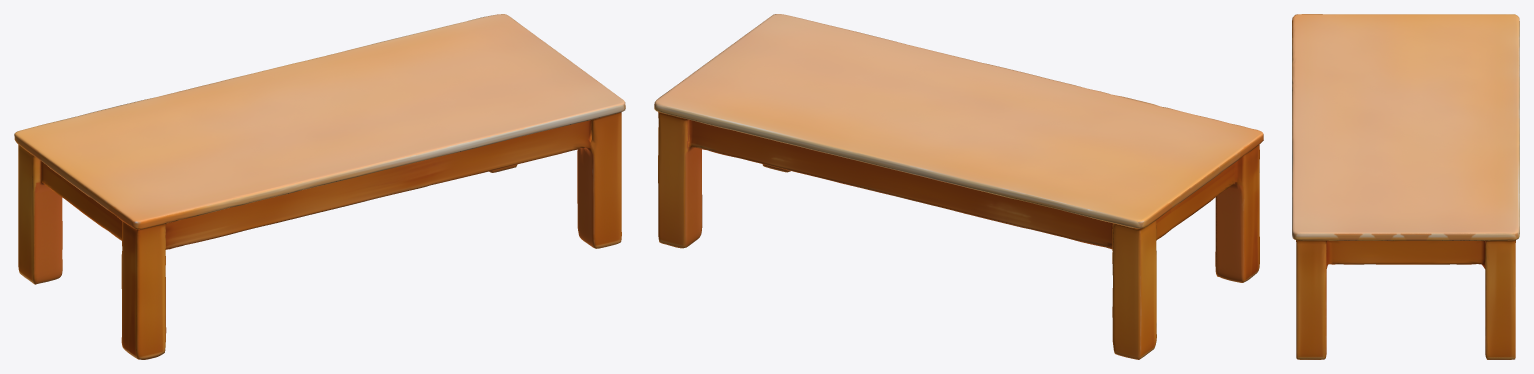
Rendered from 019dac62-fe38-7efe-9d72-35cc1d251368.glb.
The picture shows the model from 3 angles, left to right: view 1: azimuth 30°, elevation 25°; view 2: azimuth 150°, elevation 25°; view 3: azimuth 270°, elevation 25°; orthographic projection. The views are drawn at different scales.
Visible parts, largest first — view 1: model; view 2: model; view 3: model.
Part boxes in pixels (x1=…): model: x1=14, y1=14, x2=625, y2=359; model: x1=654, y1=14, x2=1263, y2=359; model: x1=1292, y1=14, x2=1519, y2=359.
Size of the model in its own units: 1.9 by 0.5236 by 0.8336.
1 material, 1 textured.
